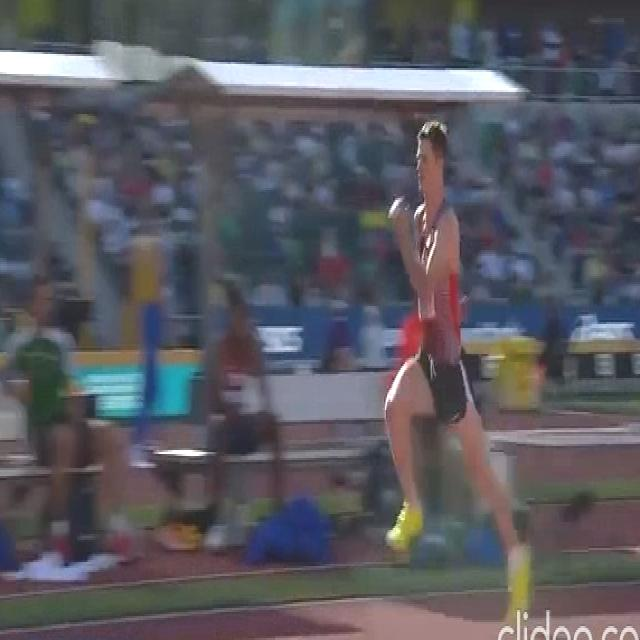run: (384, 127, 532, 605)
